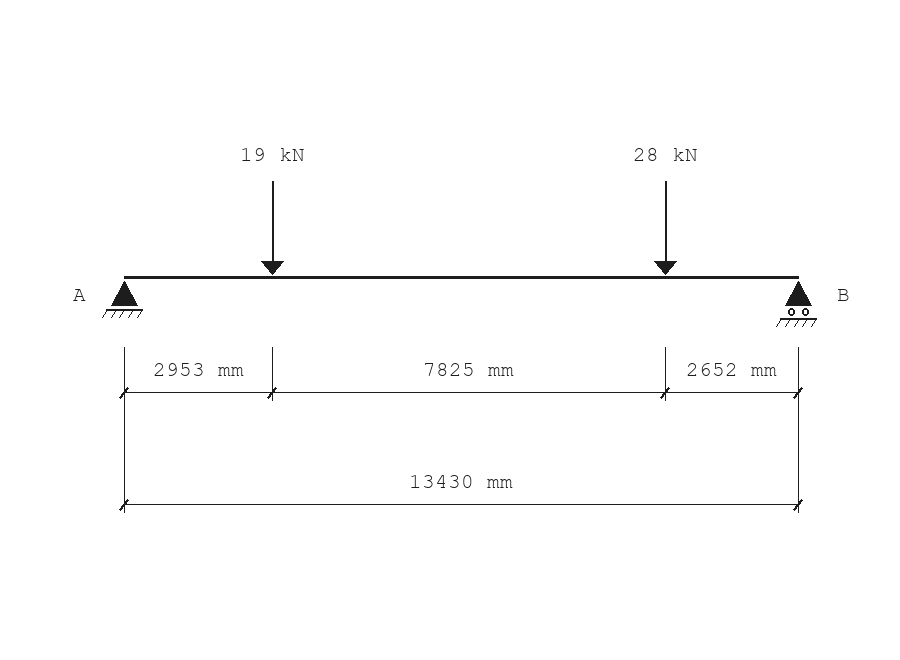pin_support: (102, 281, 143, 318)
point_load: (261, 181, 284, 275), (654, 181, 677, 275)
roller_support: (776, 281, 817, 327)
